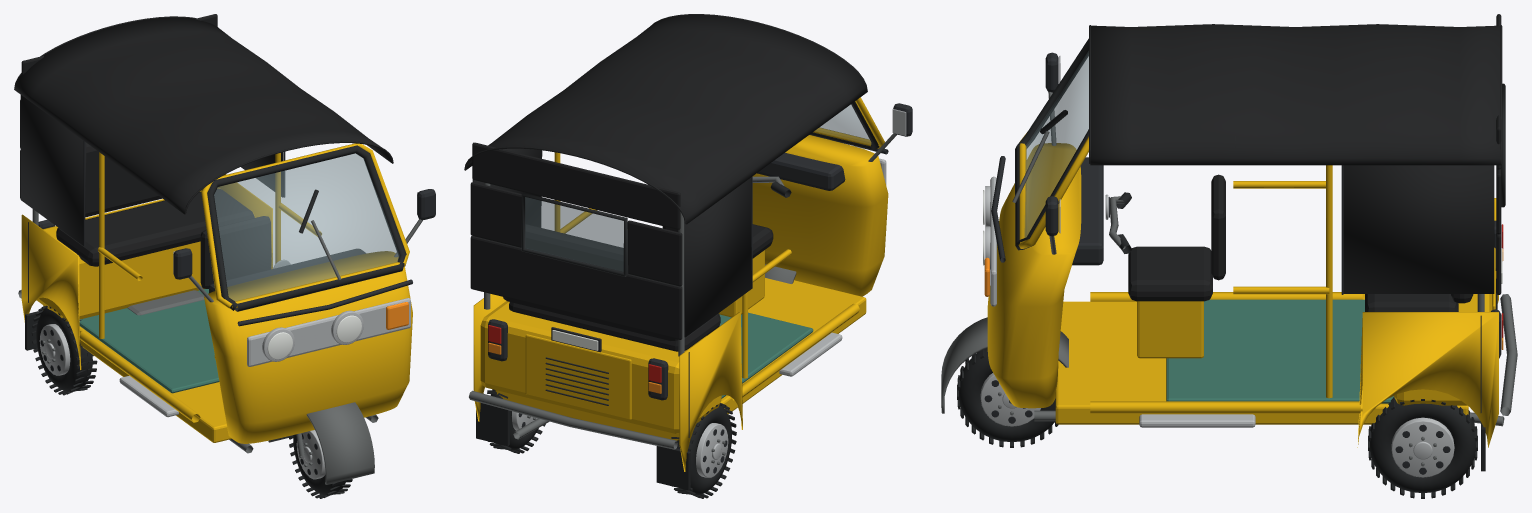
The model's file is keke_classic_lod0.glb.
3 renders of one model, left to right at view 1: azimuth 30°, elevation 25°; view 2: azimuth 150°, elevation 25°; view 3: azimuth 270°, elevation 25°, orthographic. The views are drawn at different scales.
Parts seen in each view (by area): view 1: Body, Fork, Wheel_Rear_Left, Wheel_Front; view 2: Body, Wheel_Rear_Left, Wheel_Rear_Right; view 3: Body, Wheel_Rear_Right, Wheel_Front, Fork.
Part boxes in pixels (bbox=[...]): Body: bbox=[14, 14, 435, 453]; Fork: bbox=[268, 402, 374, 484]; Wheel_Rear_Left: bbox=[31, 305, 97, 395]; Wheel_Front: bbox=[288, 430, 352, 498]; Body: bbox=[464, 14, 912, 490]; Wheel_Rear_Left: bbox=[671, 403, 736, 498]; Wheel_Rear_Right: bbox=[487, 389, 545, 453]; Body: bbox=[983, 14, 1517, 471]; Wheel_Rear_Right: bbox=[1368, 397, 1477, 498]; Wheel_Front: bbox=[957, 348, 1058, 447]; Fork: bbox=[941, 317, 1068, 413].
Bounding box in the file's own units: 1.62 × 1.92 × 2.58.
